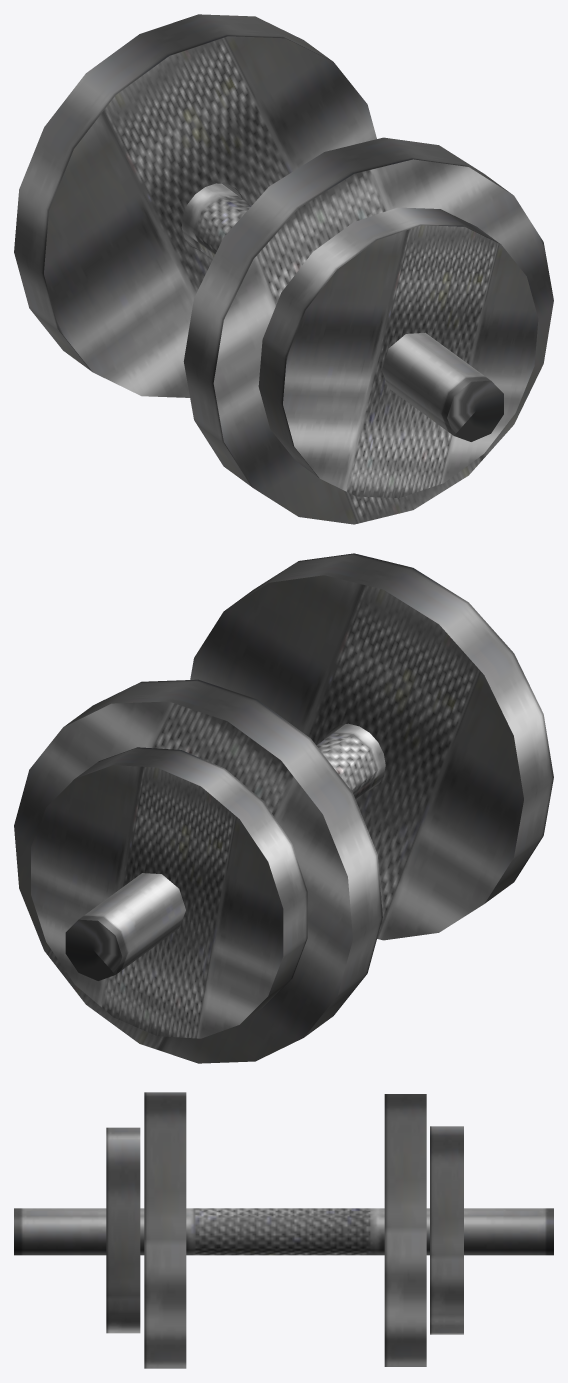
The model's file is Dumbbell.glb.
3 views of the same model, one above another, from view 1: azimuth 30°, elevation 25°; view 2: azimuth 150°, elevation 25°; view 3: azimuth 270°, elevation 25° (orthographic). The views are drawn at different scales.
Parts seen in each view (by area): view 1: Dumbbell; view 2: Dumbbell; view 3: Dumbbell.
Boxes of the visible parts, x1,y1,x2,y2 form: Dumbbell: (14,14,553,524); Dumbbell: (14,553,553,1063); Dumbbell: (14,1092,553,1368).
Size of the model in its own units: 2.27 by 2.27 by 4.43.
1 material, 1 textured.
